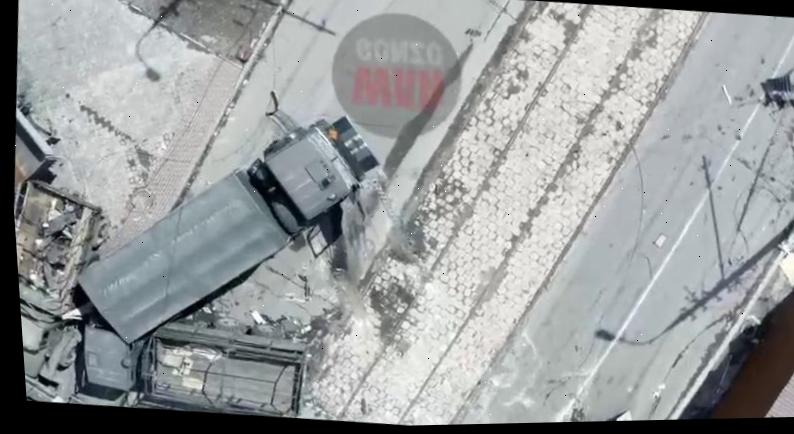truck: (63, 96, 381, 364), (75, 302, 313, 423), (12, 174, 124, 384)
